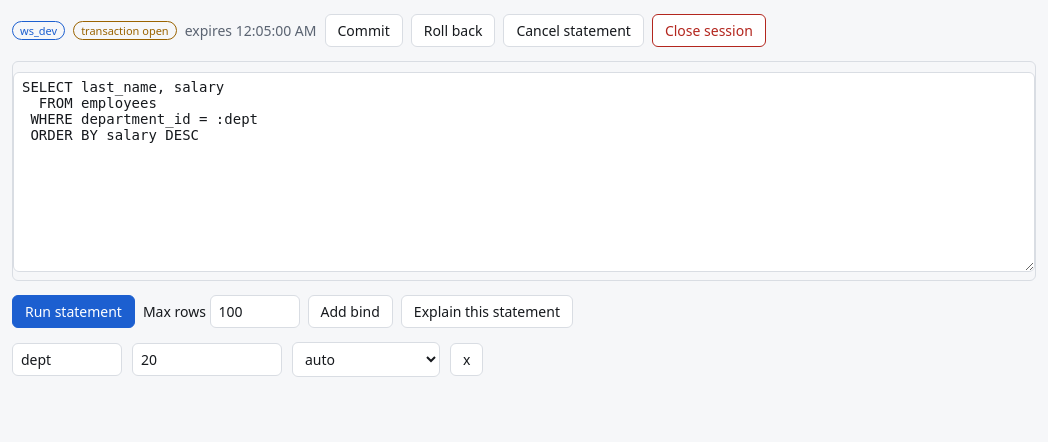
acting on a session › keeps the session when the statement itself failed
Check: the text "ws_dev" is shown, box top-left (12, 21), bottom-right (65, 40)
Click the button "Run statement" at (73, 312), box top-left (12, 295), bottom-right (135, 328)
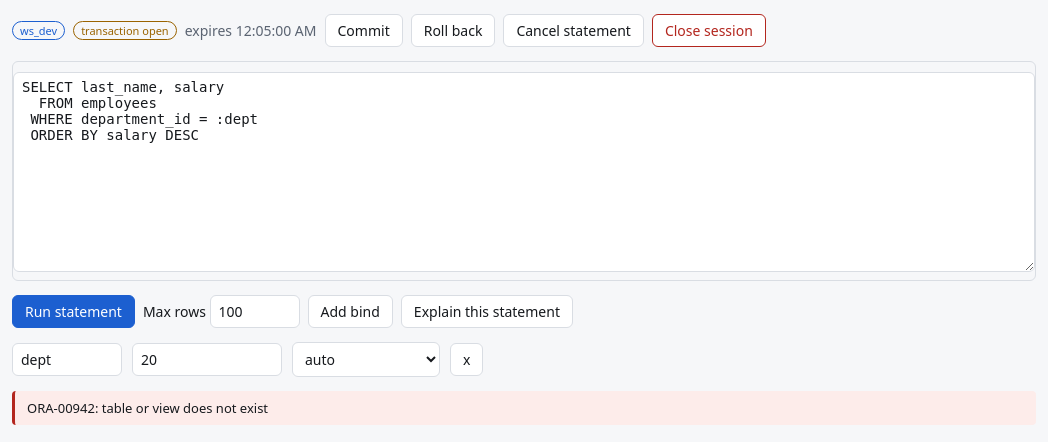
Check: the text "ws_dev" is shown, box top-left (12, 21), bottom-right (65, 40)
Check: the text "ORA-00942: table or view does not exist" is shown, box top-left (12, 391), bottom-right (1036, 425)
